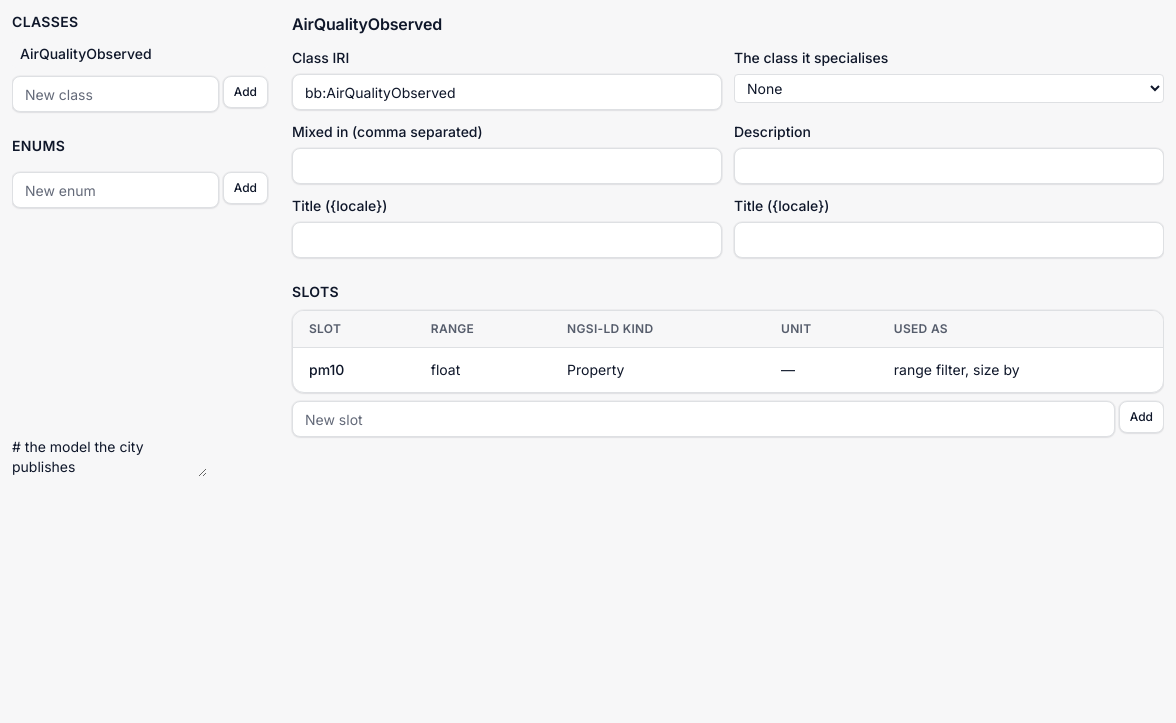
LinkML visual editor › adds a slot to the open class and lists it with its range
This screenshot has width=1176, height=723.
Type "pm25" into the field labelled "New slot" at (703, 419), box [292,401,1115,437]
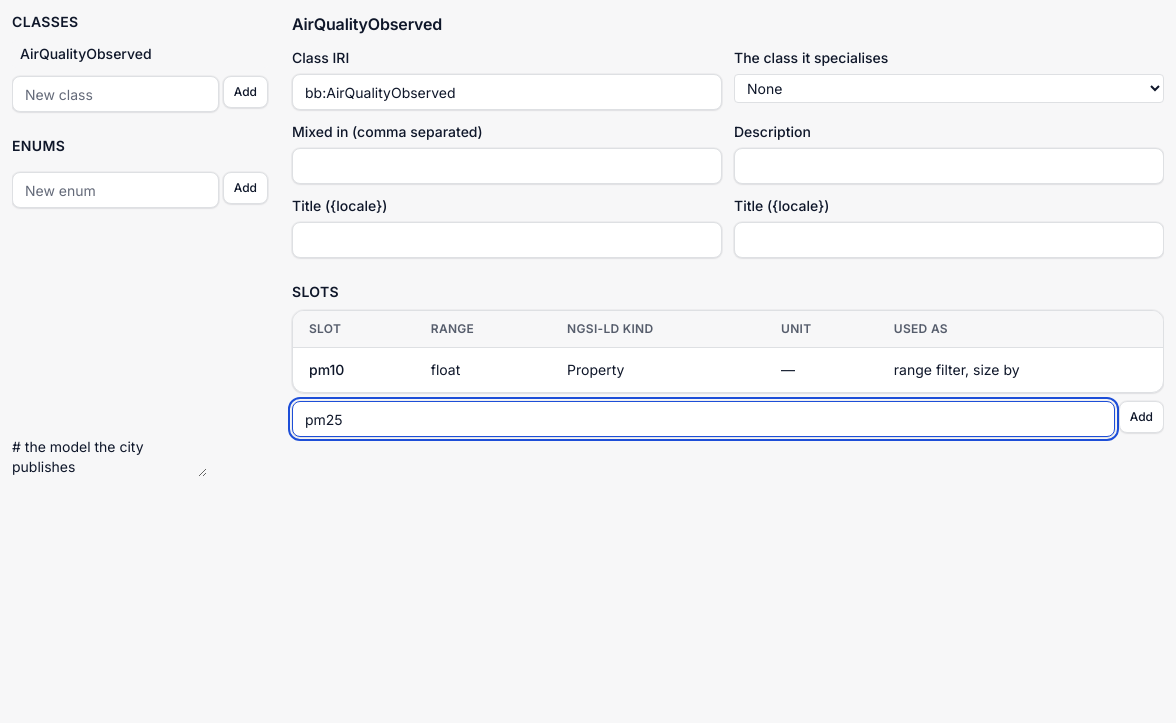
Click the button with aria-label "Add slot" at (1141, 417), box [1119,401,1164,433]
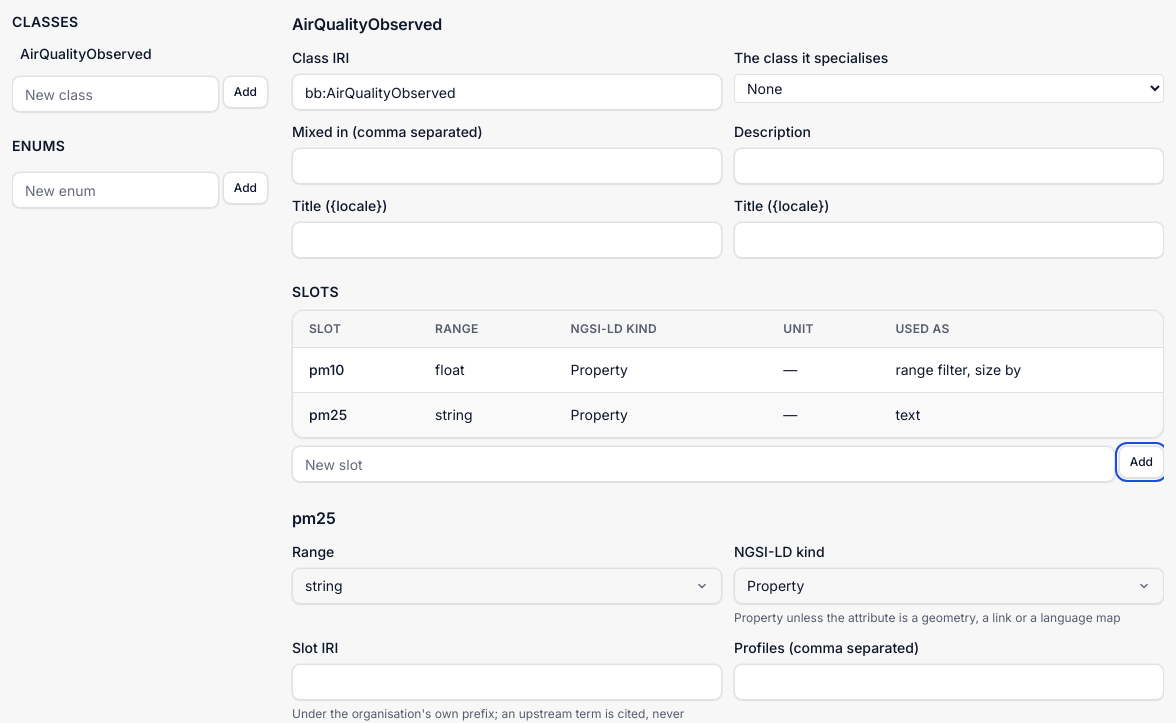
Expected: the row "pm10 float Property — range filter, size by" is shown, [293,348,1163,392]
Expected: the cell "string" is shown, [419,392,555,437]
